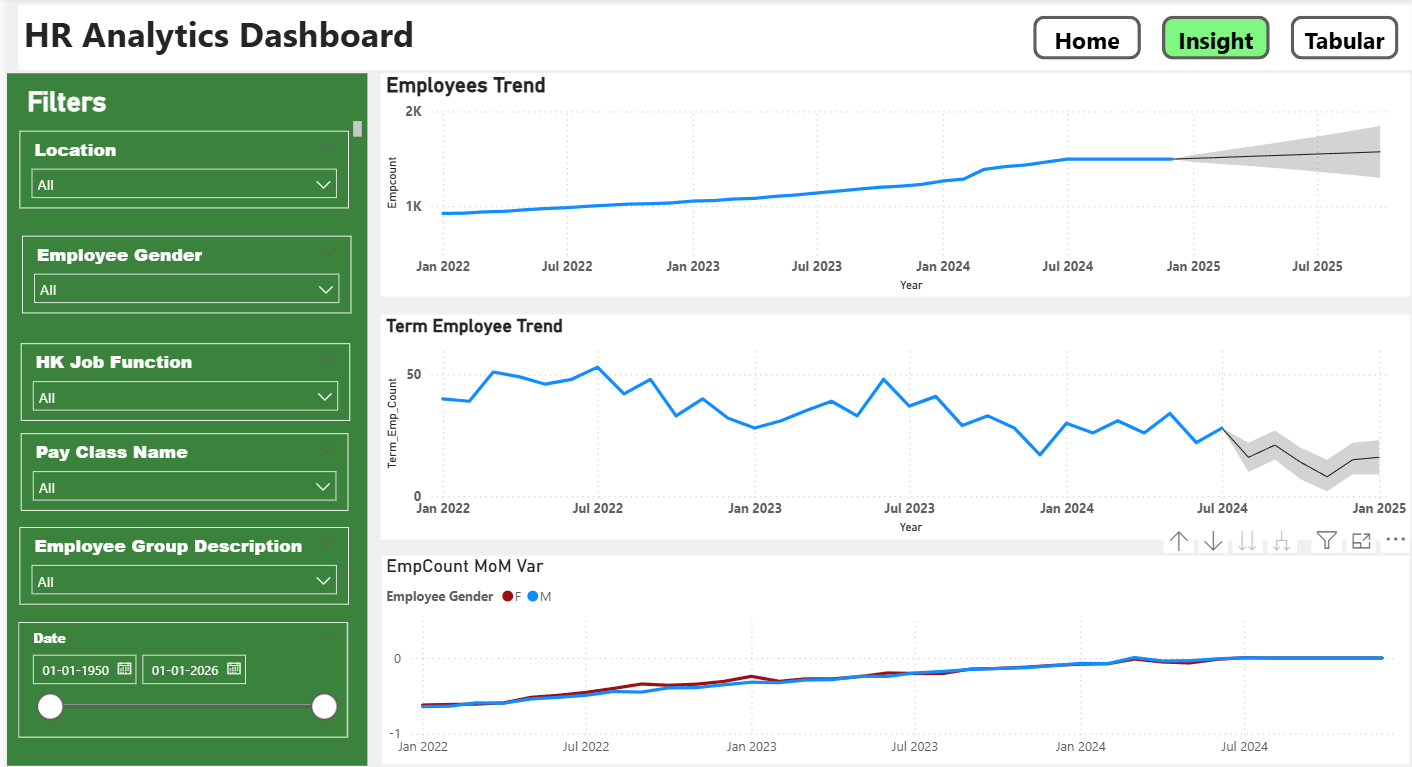

The dashboard page shown, as its layout file describes it:
{"tool":"powerbi","page":{"name":"Insights","canvas":[1350,750],"ordinal":1},"visuals":[{"type":"textbox","box":[10.1,7.2,1293.9,60.8],"z":0},{"type":"lineChart","title":"Employees Trend","fields":{"Y":["Employees.Empcount"],"Category":["Date Dim.Date.Variation.Date Hierarchy.Year","Date Dim.Date.Variation.Date Hierarchy.Month"]},"box":[346.9,70.4,956.4,207.4],"z":1000},{"type":"lineChart","title":"Term Employee Trend","fields":{"Y":["Employees.Term_Emp_Count"],"Category":["Employees.Termination Date.Variation.Date Hierarchy.Year","Employees.Termination Date.Variation.Date Hierarchy.Month","Employees.Termination Date.Variation.Date Hierarchy.Day"]},"box":[346.9,294.1,956.4,208.6],"z":2000},{"type":"lineChart","title":"EmpCount MoM  Var ","fields":{"Y":["Employees.EmpCount MoM % Var"],"Series":["Employees.Employee Gender"],"Category":["Date Dim.Date.Variation.Date Hierarchy.Year","Date Dim.Date.Variation.Date Hierarchy.Month"]},"box":[347,516.7,956.1,196.3],"z":3000},{"type":"shape","title":"Filters","box":[0,70.9,334.3,642.6],"z":4000},{"type":"slicer","fields":{"Values":["Employees.Location"]},"box":[11.6,124.5,305.4,72.4],"z":5000},{"type":"slicer","title":"Employee Gender","fields":{"Values":["Employees.Employee Gender"]},"box":[14.5,221.4,305.4,72.4],"z":6000},{"type":"slicer","title":"HK Job Function","fields":{"Values":["Employees.HK Job Function"]},"box":[13,321.3,305.4,72.4],"z":7000},{"type":"slicer","title":"Pay class name","fields":{"Values":["Employees.Pay Class Name"]},"box":[13,405.2,303.9,72.4],"z":8000},{"type":"slicer","title":"Employee Group Description","fields":{"Values":["Employees.Employee Group Description"]},"box":[11.6,492.1,305.4,72.4],"z":9000},{"type":"slicer","title":"Employee Group Description","fields":{"Values":["Date Dim.Date"]},"box":[10.1,580.4,305.4,107.1],"z":10000},{"type":"actionButton","box":[952.3,17.4,99.9,40.5],"z":11000},{"type":"actionButton","box":[1071,17.4,99.9,40.5],"z":12000},{"type":"actionButton","box":[1191.1,17.4,99.9,40.5],"z":13000},{"type":"textbox","title":"Filters","box":[14.5,82.5,319.8,52.1],"z":14000}]}

Visuals, with their boxes in screenshot pixels (x1, y1, x2, y2), scaled from the page's 1350x750 canvas onto the 1412x767 screenshot:
textbox: BBox(11, 7, 1364, 70)
"Employees Trend" lineChart: BBox(363, 72, 1363, 284)
"Term Employee Trend" lineChart: BBox(363, 301, 1363, 514)
"EmpCount MoM  Var " lineChart: BBox(363, 528, 1363, 729)
"Filters" shape: BBox(0, 73, 350, 730)
slicer - Employees.Location: BBox(12, 127, 332, 201)
"Employee Gender" slicer: BBox(15, 226, 335, 300)
"HK Job Function" slicer: BBox(14, 329, 333, 403)
"Pay class name" slicer: BBox(14, 414, 331, 488)
"Employee Group Description" slicer: BBox(12, 503, 332, 577)
"Employee Group Description" slicer: BBox(11, 594, 330, 703)
actionButton: BBox(996, 18, 1101, 59)
actionButton: BBox(1120, 18, 1225, 59)
actionButton: BBox(1246, 18, 1350, 59)
"Filters" textbox: BBox(15, 84, 350, 138)
